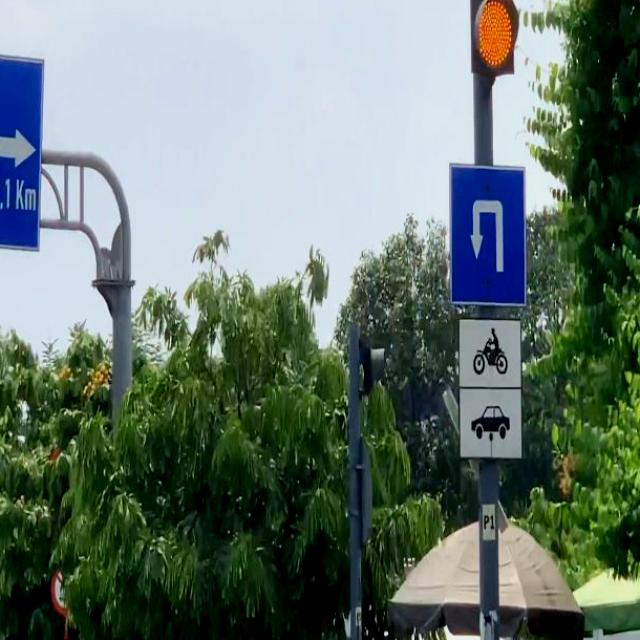Cho quay xe: (448, 160, 530, 309)
